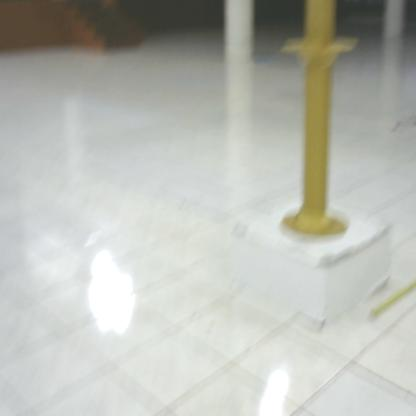pole: (277, 2, 360, 257)
